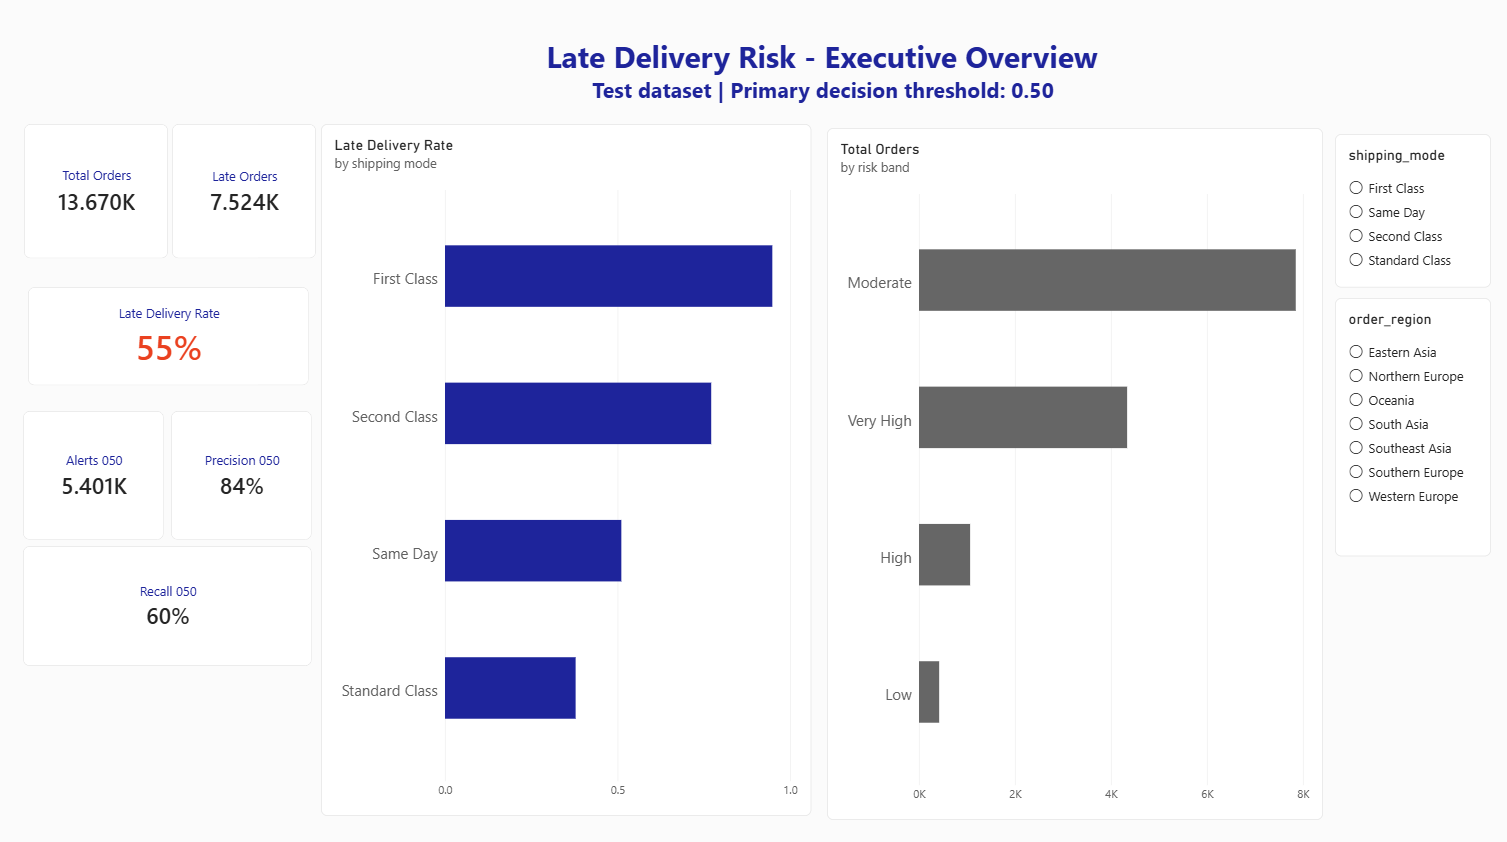

The page's visual inventory and layout, read from the dashboard file:
{"tool":"powerbi","page":{"name":"01 Executive Overview","canvas":[1920,1080],"ordinal":0},"visuals":[{"type":"cardVisual","fields":{"Data":["_Measures.Late Orders"]},"box":[230,166.7,180,168.3],"z":0},{"type":"cardVisual","fields":{"Data":["_Measures.Total Orders"]},"box":[45,166.7,180,168.3],"z":1000},{"type":"cardVisual","fields":{"Data":["_Measures.Late Delivery Rate"]},"box":[50,370,351.7,123.3],"z":2000},{"type":"cardVisual","fields":{"Data":["_Measures.Alerts 050"]},"box":[43.3,525,176.7,161.7],"z":3000},{"type":"cardVisual","fields":{"Data":["_Measures.Precision 050"]},"box":[228.3,525,176.7,161.7],"z":4000},{"type":"textbox","box":[435,56.7,1225,136.7],"z":5000},{"type":"cardVisual","fields":{"Data":["_Measures.Recall 050"]},"box":[43.3,693.3,361.7,150],"z":7000},{"type":"clusteredBarChart","title":"Late Delivery Rate ","fields":{"Category":["test_order_predictions.shipping_mode"],"Y":["_Measures.Late Delivery Rate"]},"box":[416.7,166.7,613.3,865],"z":8000},{"type":"clusteredBarChart","title":"Total Orders ","fields":{"Category":["test_order_predictions.risk_band"],"Y":["_Measures.Total Orders"]},"box":[1048.3,171.7,620,865],"z":9000},{"type":"listSlicer","fields":{"Values":["test_order_predictions.shipping_mode"]},"box":[1683.3,178.3,195,191.7],"z":10000},{"type":"listSlicer","fields":{"Values":["test_order_predictions.order_region"]},"box":[1683.3,383.3,195,323.3],"z":11000}]}

Visuals, with their boxes in screenshot pixels (x1, y1, x2, y2), scaled from the page's 1920x1080 canvas onto the 1507x842 screenshot:
cardVisual - _Measures.Late Orders: Rect(181, 130, 322, 261)
cardVisual - _Measures.Total Orders: Rect(35, 130, 177, 261)
cardVisual - _Measures.Late Delivery Rate: Rect(39, 288, 315, 385)
cardVisual - _Measures.Alerts 050: Rect(34, 409, 173, 535)
cardVisual - _Measures.Precision 050: Rect(179, 409, 318, 535)
textbox: Rect(341, 44, 1303, 151)
cardVisual - _Measures.Recall 050: Rect(34, 541, 318, 657)
"Late Delivery Rate " clusteredBarChart: Rect(327, 130, 808, 804)
"Total Orders " clusteredBarChart: Rect(823, 134, 1309, 808)
listSlicer - test_order_predictions.shipping_mode: Rect(1321, 139, 1474, 288)
listSlicer - test_order_predictions.order_region: Rect(1321, 299, 1474, 551)
